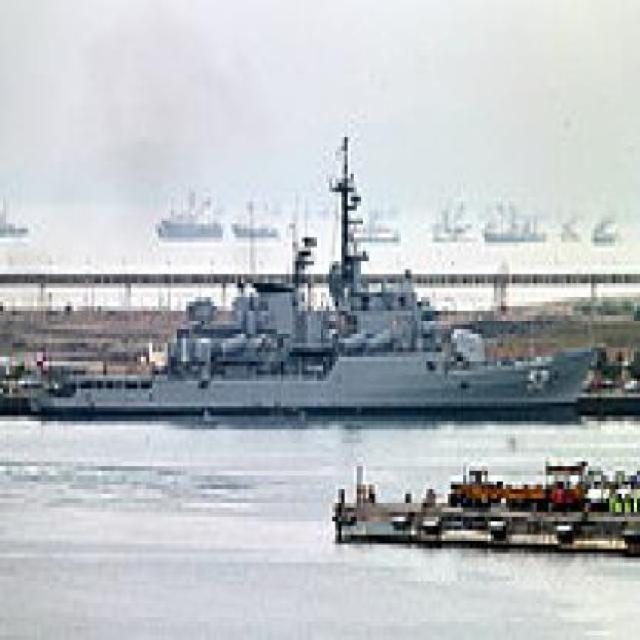warship2: (25, 116, 596, 427)
